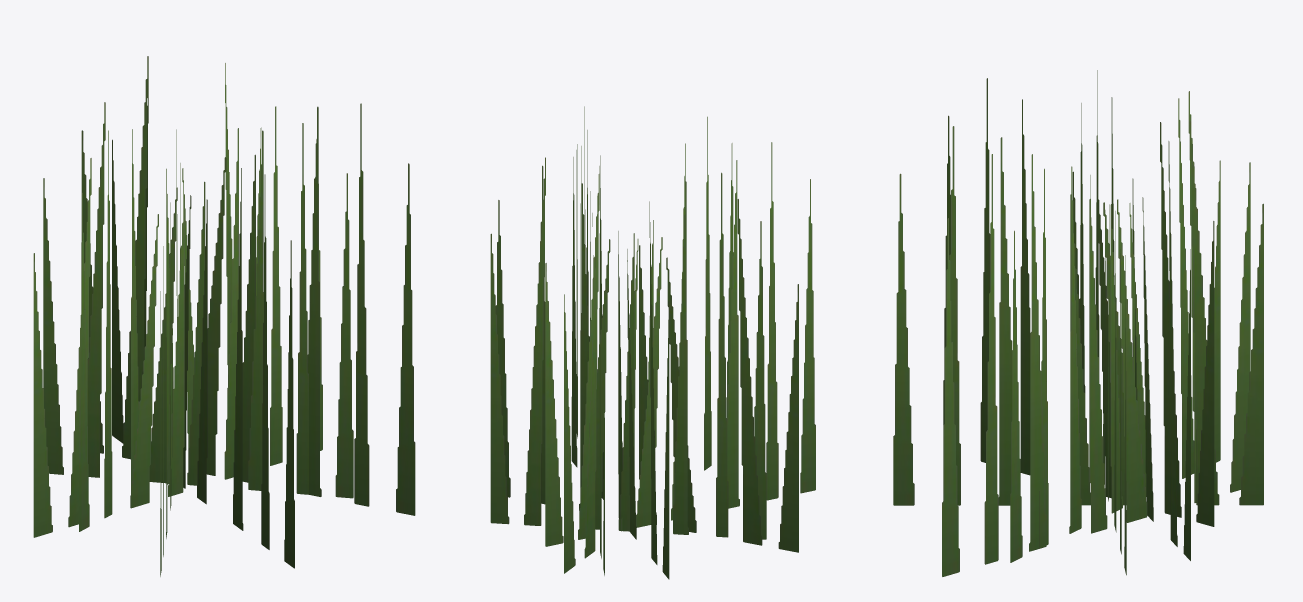
The model's file is grass-cards.glb.
3 views of the same model, side by side, from view 1: azimuth 30°, elevation 25°; view 2: azimuth 150°, elevation 25°; view 3: azimuth 270°, elevation 25° (orthographic). The views are drawn at different scales.
Visible parts, largest first — view 1: tuft; view 2: tuft; view 3: tuft.
Boxes of the visible parts, x1,y1,x2,y2 form: tuft: [33, 56, 415, 576]; tuft: [490, 106, 815, 579]; tuft: [893, 70, 1263, 576].
Bounding box in the file's own units: 0.3447 × 0.4041 × 0.3545.
Materials: 1 (1 with a texture image).
